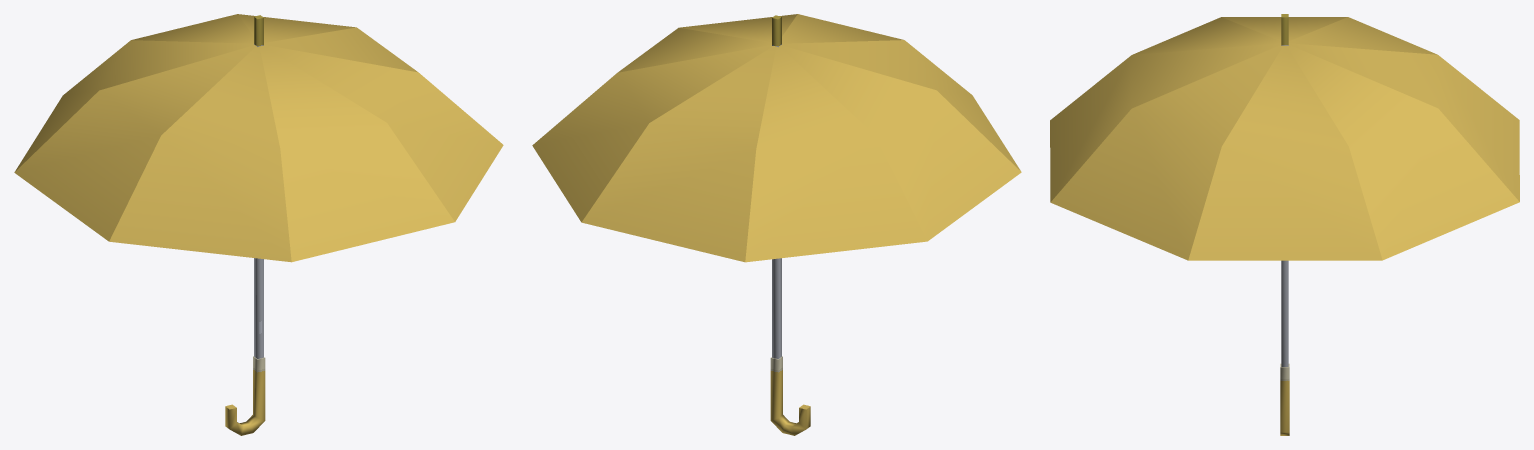
Rendered from 0520_Kid_s_Umbrella.glb.
The picture shows the model from 3 angles, left to right: view 1: azimuth 30°, elevation 25°; view 2: azimuth 150°, elevation 25°; view 3: azimuth 270°, elevation 25°; orthographic projection. The views are drawn at different scales.
Parts seen in each view (by area): view 1: part_0; view 2: part_0; view 3: part_0.
Boxes of the visible parts, left/top/right/bottom form: part_0: left=14, top=14, right=503, bottom=435; part_0: left=532, top=14, right=1021, bottom=435; part_0: left=1050, top=14, right=1519, bottom=435.
Bounding box in the file's own units: 0.9937 × 0.9899 × 0.9937.
Materials: 1 (1 with a texture image).
